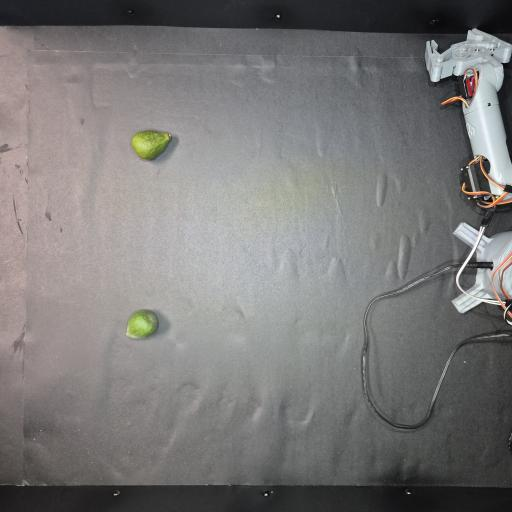higo: (131, 130, 172, 160), (126, 310, 158, 338)
